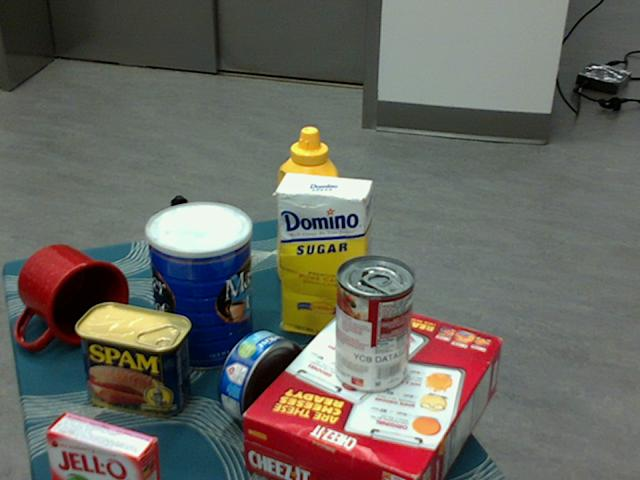cracker_box: (242, 298, 503, 479)
gelatin_box: (43, 409, 157, 479)
large_marker: (171, 194, 191, 293)
master_chef_can: (145, 202, 252, 372)
mug: (17, 243, 128, 349)
mustard_bottle: (277, 126, 338, 301)
potted_meat_can: (74, 300, 190, 416)
sugar_box: (276, 171, 373, 344)
tomato_soup_can: (332, 256, 415, 394)
tuna_fish_can: (218, 330, 304, 429)
